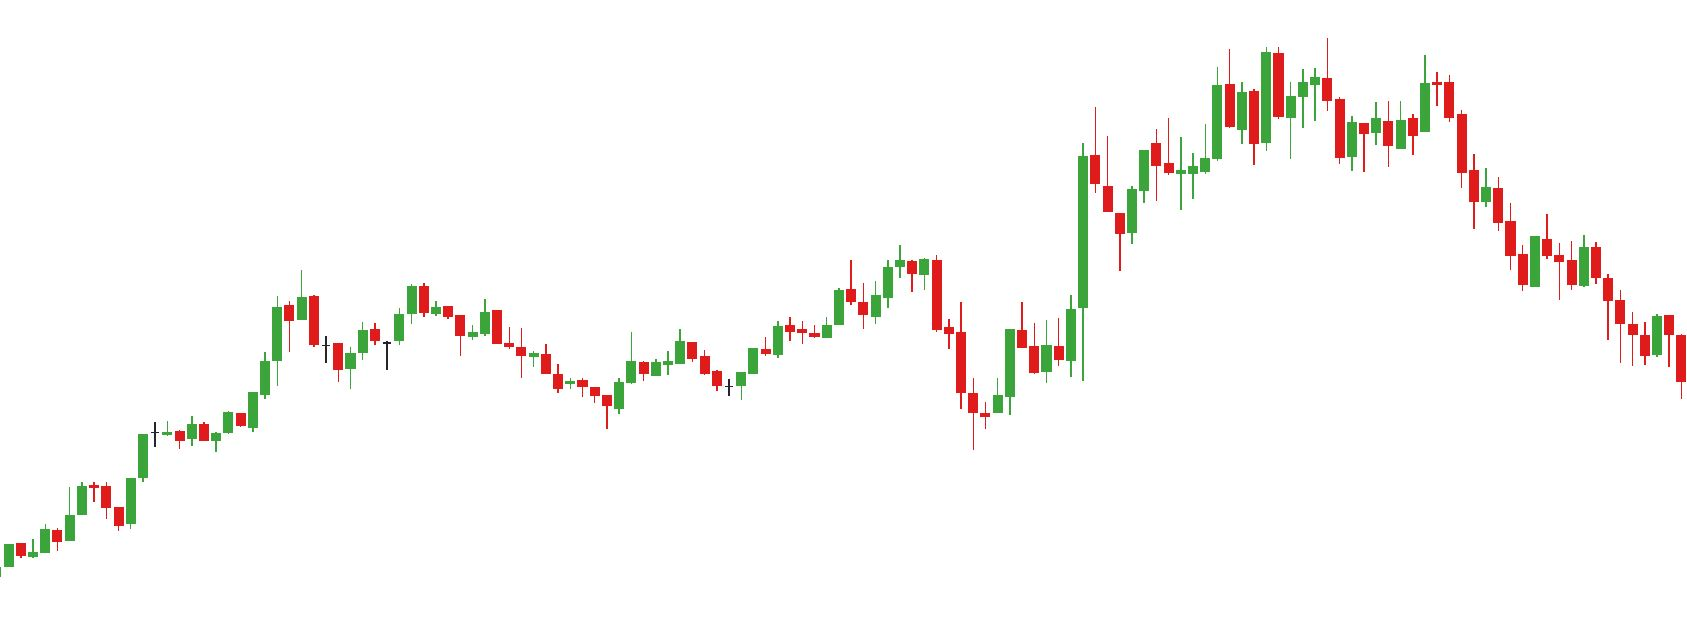buy: (711, 309, 1006, 450)
sell: (1256, 41, 1335, 140)
